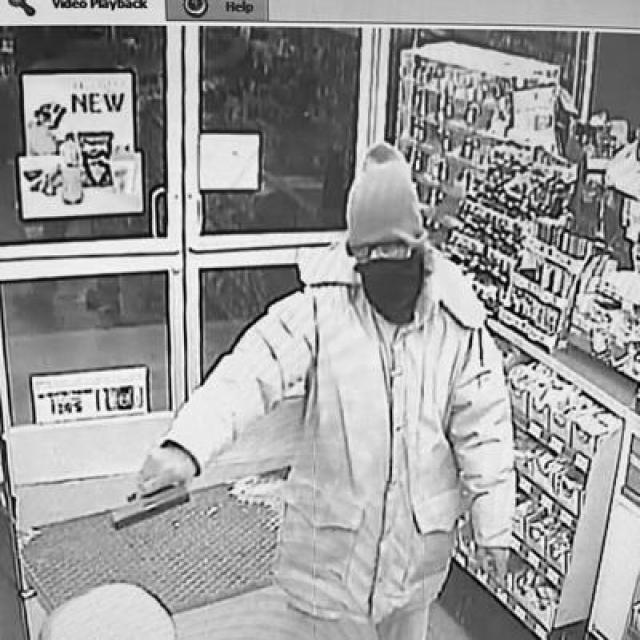gun: (107, 487, 196, 531)
